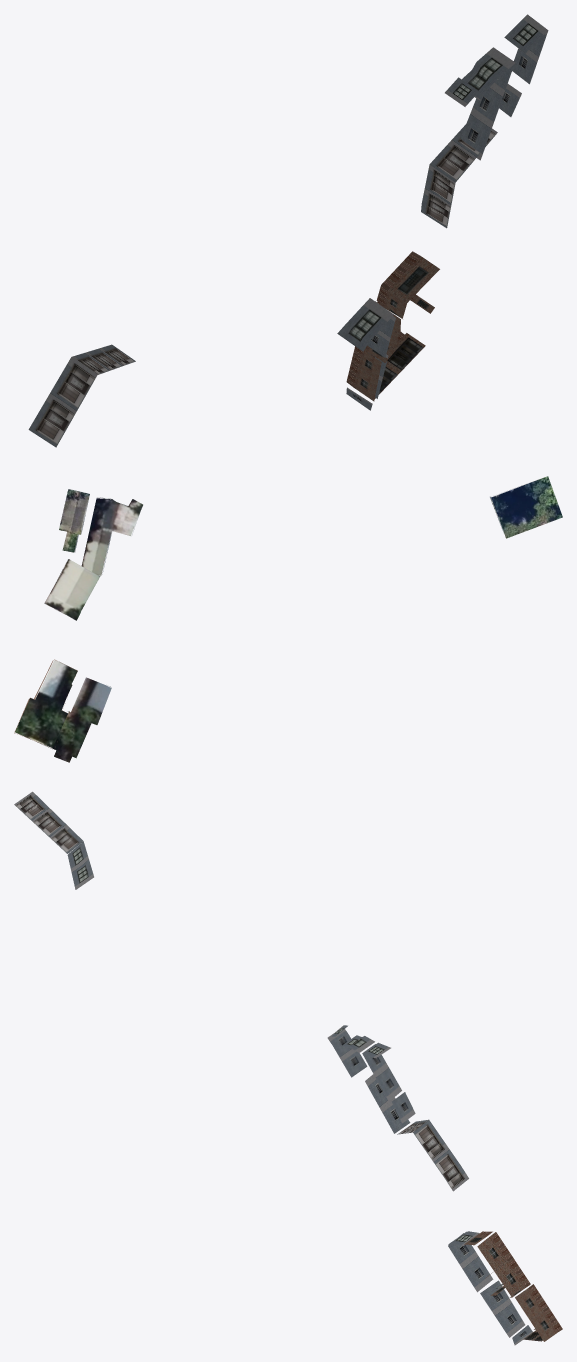
File: tile_LOD4_r13_c11.glb
3 renders of one model, top to bottom at view 1: azimuth 30°, elevation 25°; view 2: azimuth 150°, elevation 25°; view 3: azimuth 270°, elevation 25°, orthographic. The views are drawn at different scales.
Bounding box in the file's own units: 116 × 69.75 × 102.
13 materials, 13 textured.
